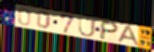0: (36, 11, 52, 31), (18, 7, 32, 27)
7: (60, 13, 75, 35)
A: (115, 25, 141, 47)
P: (98, 20, 120, 41)
U: (78, 16, 97, 38)
